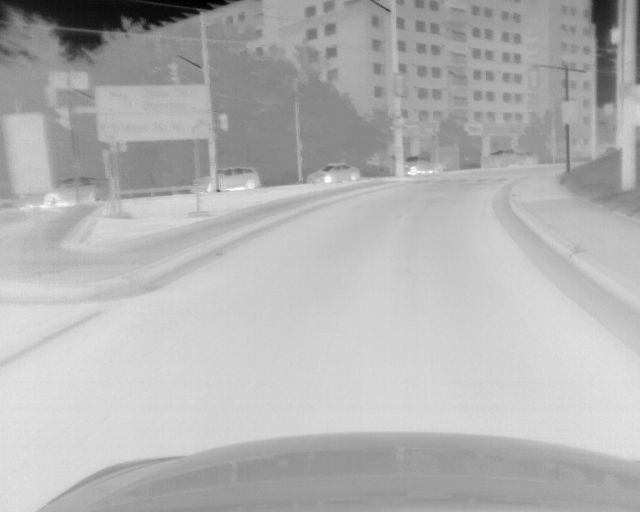car: (43, 176, 105, 207), (193, 166, 260, 194), (305, 163, 359, 184), (482, 149, 537, 169), (402, 155, 442, 175)
